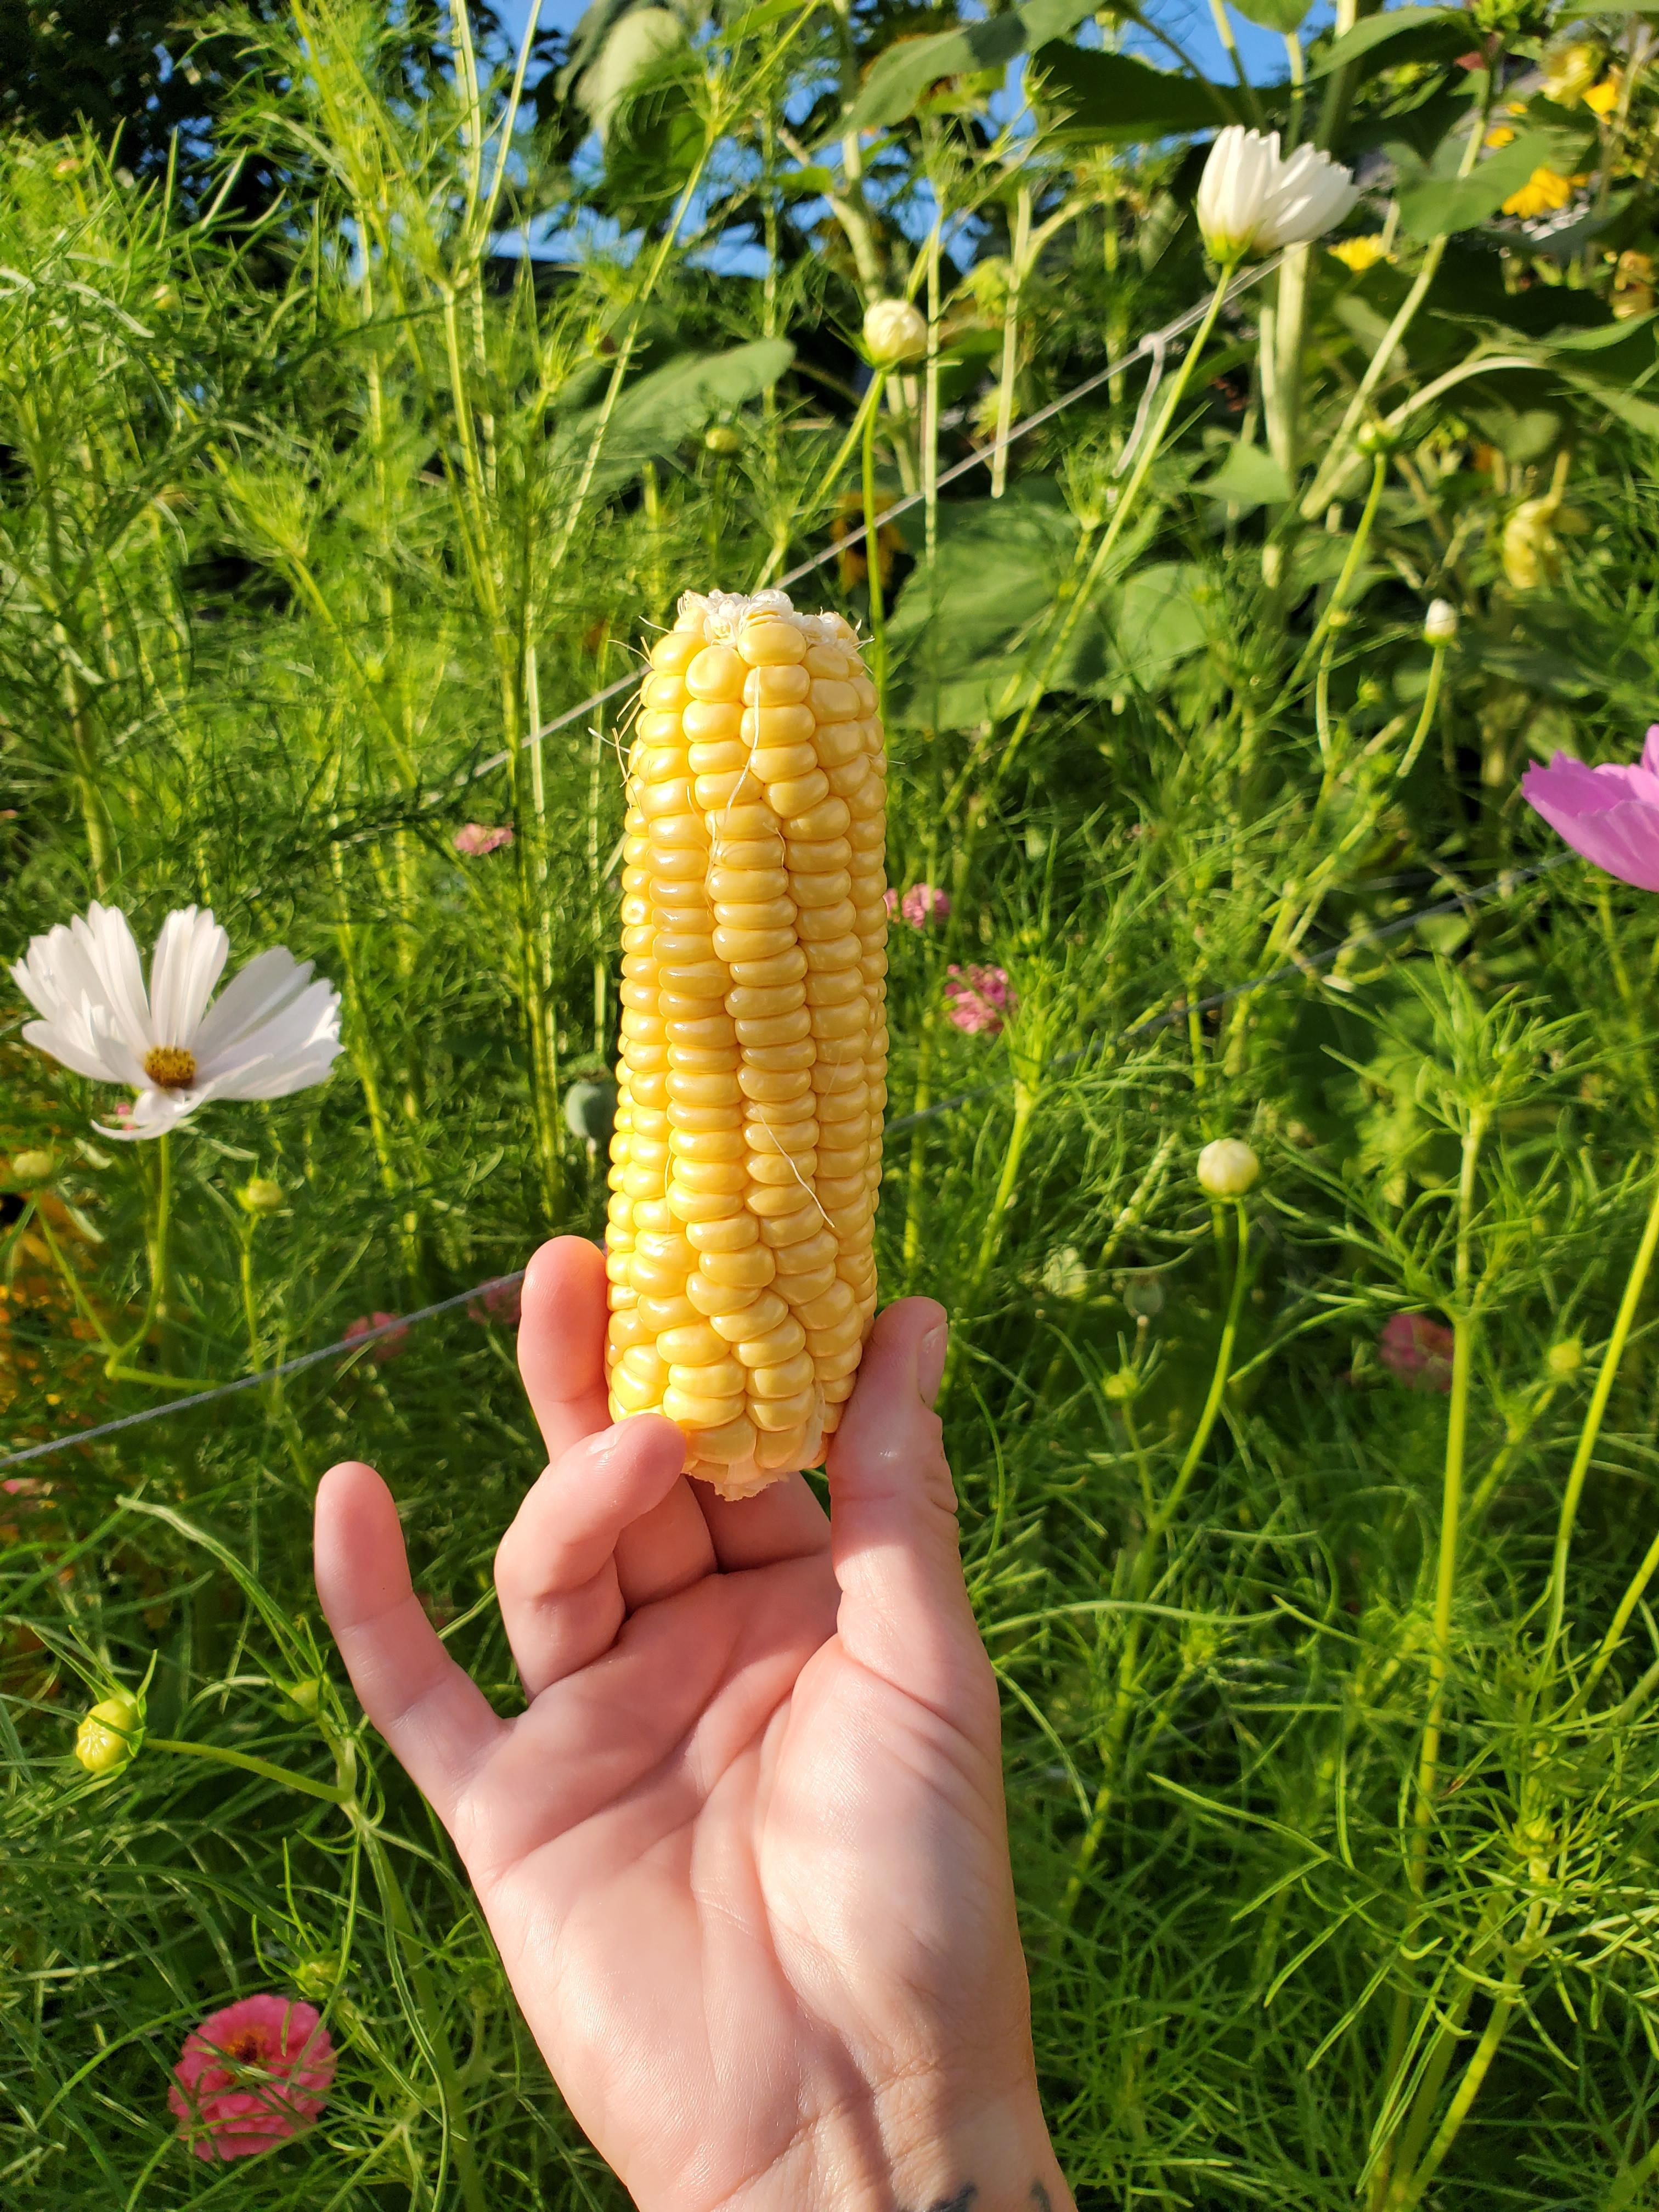corn: (627, 583, 910, 1515)
